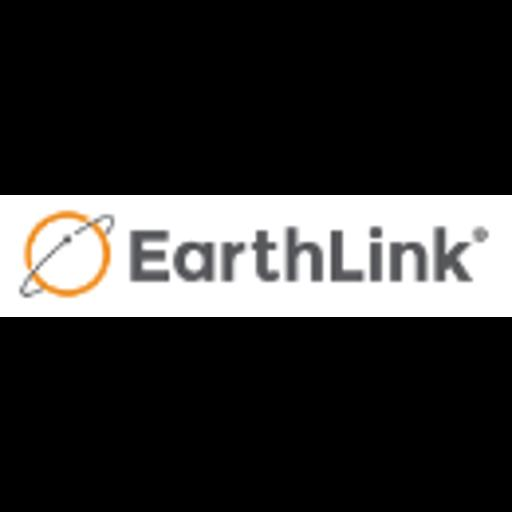EarthLink: (0, 195, 512, 317)
